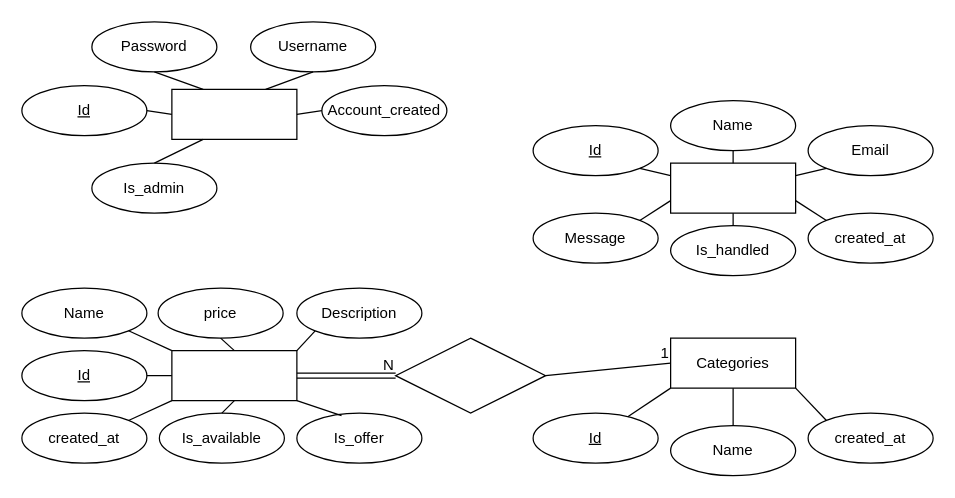
This 955x498 diagram has some shape labels left out. The shapes that lost their labels are listed below. From the top down, each one's centre as x and y in pixels, then its label:
[234,113]: Users
[732,187]: Messages
[234,375]: Menu_item
[470,375]: Contains
